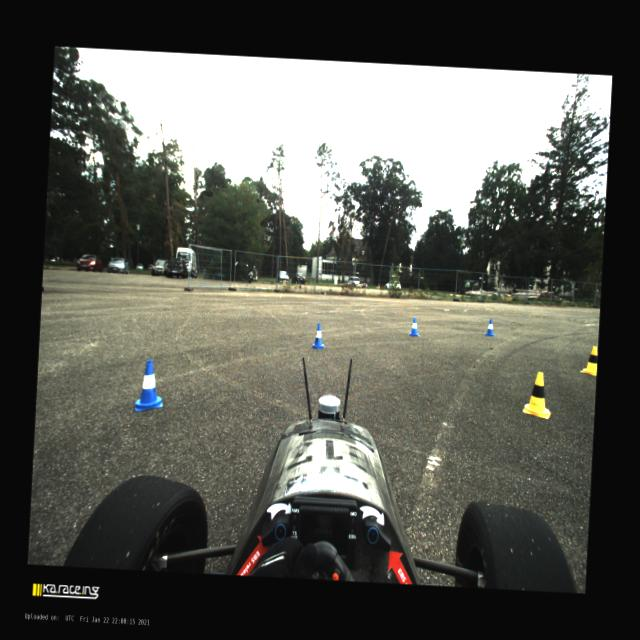blue_cone: (134, 359, 166, 413), (310, 323, 326, 349), (484, 318, 496, 336), (409, 317, 420, 336)
yellow_cone: (522, 371, 554, 419), (580, 345, 598, 376)
